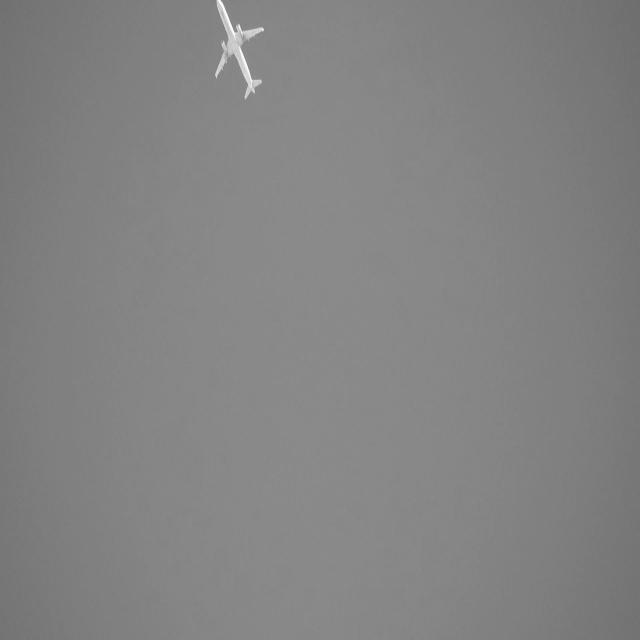aeroplane: (211, 0, 266, 103)
